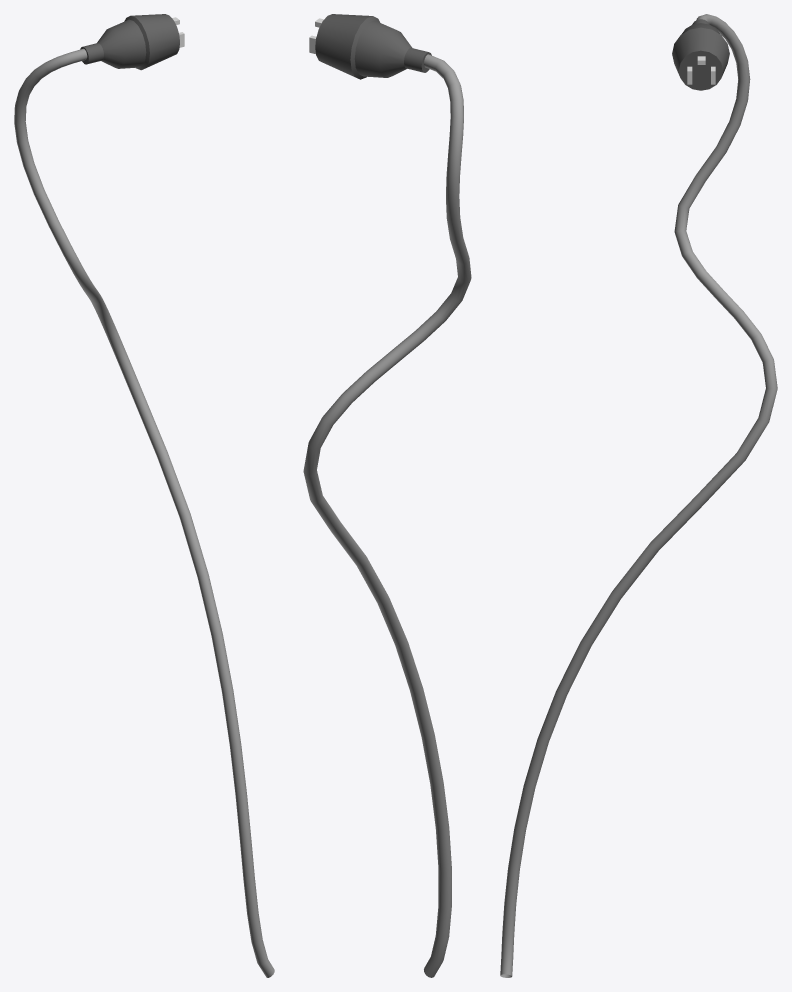
File: Plug03.fbx
3 views of the same model, side by side, from view 1: azimuth 30°, elevation 25°; view 2: azimuth 150°, elevation 25°; view 3: azimuth 270°, elevation 25° (orthographic). The views are drawn at different scales.
Visible parts, largest first — view 1: Plug03; view 2: Plug03; view 3: Plug03.
Part boxes in pixels (<box>): Plug03: <box>14,14,274,977</box>; Plug03: <box>303,14,471,977</box>; Plug03: <box>500,14,777,977</box>.
Size of the model in its own units: 0.1434 by 0.2305 by 0.854.
